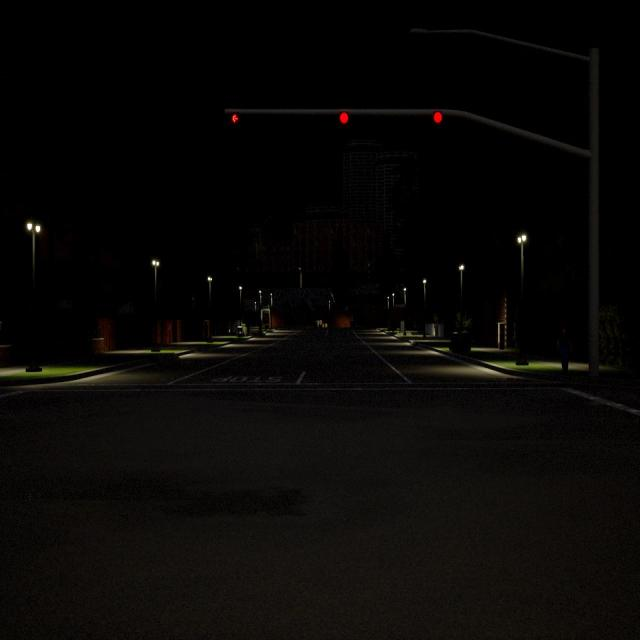Pedestrian: (558, 328, 572, 370)
traffic_light: (340, 112, 348, 137), (434, 112, 442, 135), (232, 114, 239, 138)
